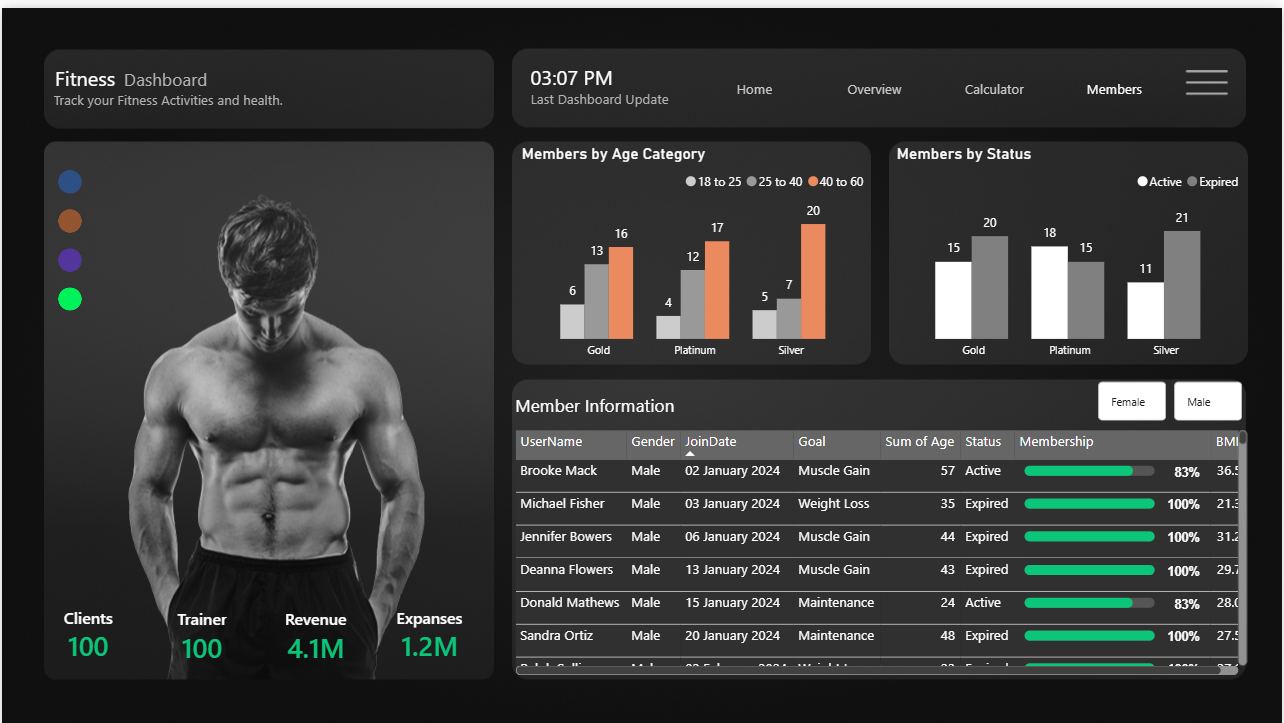

What the dashboard file says about the page in this screenshot:
{"tool":"powerbi","page":{"name":"Members","canvas":[1280,720],"ordinal":3},"visuals":[{"type":"tableEx","fields":{"Values":["Users.UserName","Users.Gender","Users.JoinDate","Users.Goal","Sum(Users.Age)","Users.Status","_Measure.SVG_BarChart1","Avg(Users.BMI)"]},"box":[507.5,417.9,742.5,254.4],"z":0},{"type":"shape","box":[43.8,47.5,78.8,43.8],"z":1000},{"type":"shape","box":[107.5,48.8,112.5,43.8],"z":2000},{"type":"shape","box":[35,71.2,262.5,40],"z":3000},{"type":"image","box":[1178.5,48.4,54.5,53.3],"z":4000},{"type":"shape","box":[518.4,46,101.7,44.8],"z":5000},{"type":"shape","box":[507.5,70.3,180.5,40],"z":6000},{"type":"pageNavigator","box":[697.7,58.1,471.2,43.6],"z":7000},{"type":"shape","box":[507.5,376.7,170.8,41.2],"z":8000},{"type":"advancedSlicerVisual","fields":{"Values":["Users.Gender"]},"box":[1091.3,368.2,155,49.7],"z":9000},{"type":"clusteredColumnChart","title":"Members by Age Category","fields":{"Y":["_Measure.Users_Count"],"Category":["Users.Membership"],"Series":["Users.Age Category"]},"box":[514.8,136.9,356.1,222.9],"z":10000},{"type":"clusteredColumnChart","title":"Members by Status","fields":{"Y":["_Measure.Users_Count"],"Category":["Users.Membership"],"Series":["Users.Status"]},"box":[890.2,136.9,356.1,222.9],"z":11000},{"type":"advancedSlicerVisual","fields":{"Values":["ColorCodes.Icon"]},"box":[43.6,153.8,48.4,158.7],"z":12000},{"type":"cardVisual","fields":{"Data":["_Measures.Users_Count"]},"box":[26,581.6,120,91],"z":13000},{"type":"cardVisual","fields":{"Data":["CountNonNull(Users.Trainer Name)"]},"box":[139.8,583,120,91],"z":14000},{"type":"cardVisual","fields":{"Data":["_Measures.Revenue"]},"box":[253.6,583,120,91],"z":15000},{"type":"cardVisual","fields":{"Data":["_Measures.Expanses"]},"box":[367.5,581.6,120,91],"z":16000}]}

Visuals, with their boxes in screenshot pixels (x1, y1, x2, y2), scaled from the page's 1280x720 canvas onto the 1284x723 screenshot:
tableEx - Users.UserName x Users.Gender: pyautogui.locateOnScreen(509, 420, 1254, 675)
shape: pyautogui.locateOnScreen(44, 48, 123, 92)
shape: pyautogui.locateOnScreen(108, 49, 221, 93)
shape: pyautogui.locateOnScreen(35, 71, 298, 112)
image: pyautogui.locateOnScreen(1182, 49, 1237, 102)
shape: pyautogui.locateOnScreen(520, 46, 622, 91)
shape: pyautogui.locateOnScreen(509, 71, 690, 111)
pageNavigator: pyautogui.locateOnScreen(700, 58, 1173, 102)
shape: pyautogui.locateOnScreen(509, 378, 680, 420)
advancedSlicerVisual - Users.Gender: pyautogui.locateOnScreen(1095, 370, 1250, 420)
"Members by Age Category" clusteredColumnChart: pyautogui.locateOnScreen(516, 137, 874, 361)
"Members by Status" clusteredColumnChart: pyautogui.locateOnScreen(893, 137, 1250, 361)
advancedSlicerVisual - ColorCodes.Icon: pyautogui.locateOnScreen(44, 154, 92, 314)
cardVisual - _Measures.Users_Count: pyautogui.locateOnScreen(26, 584, 146, 675)
cardVisual - CountNonNull(Users.Trainer Name): pyautogui.locateOnScreen(140, 585, 261, 677)
cardVisual - _Measures.Revenue: pyautogui.locateOnScreen(254, 585, 375, 677)
cardVisual - _Measures.Expanses: pyautogui.locateOnScreen(369, 584, 489, 675)
